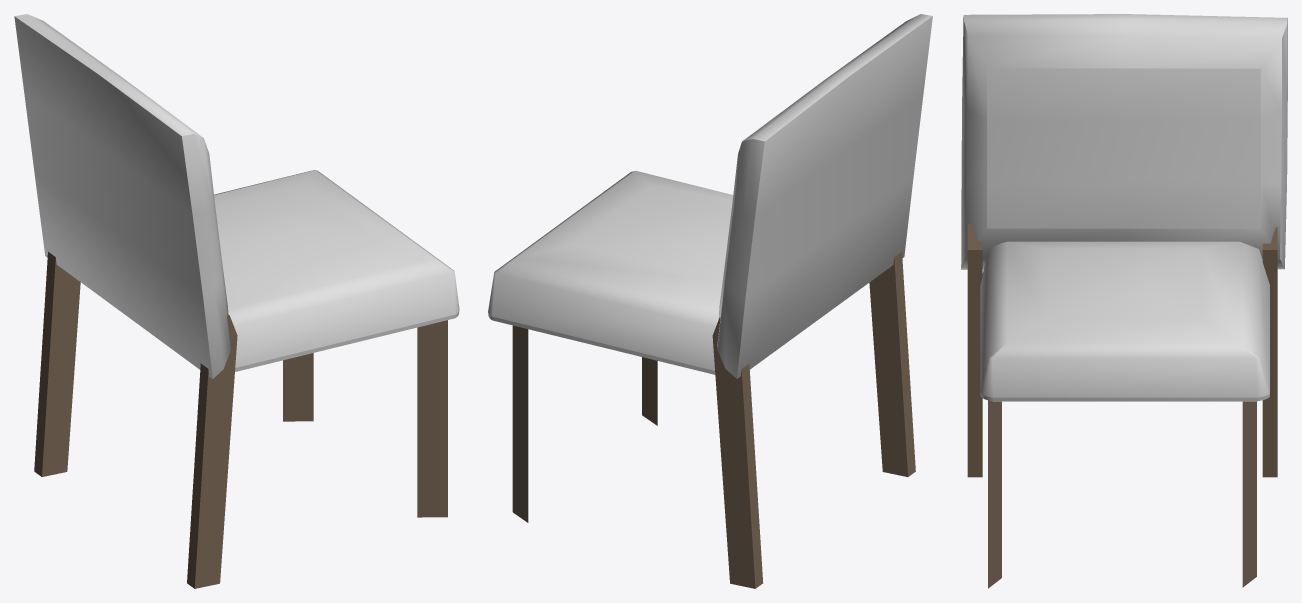
The model's file is chair tagroba.FBX.
3 renders of one model, left to right at view 1: azimuth 30°, elevation 25°; view 2: azimuth 150°, elevation 25°; view 3: azimuth 270°, elevation 25°, orthographic. The views are drawn at different scales.
Parts seen in each view (by area): view 1: ChamferBox113, Rectangle1347, Group716, Line03r91, Line02g91; view 2: ChamferBox113, Rectangle1347, Line02g91, Line03r91, Group716; view 3: ChamferBox113, Rectangle1347, Group716, Line03r91, Line02g91.
Boxes of the visible parts, <box> form: ChamferBox113: <box>14,14,230,378</box>; Rectangle1347: <box>214,170,459,371</box>; Group716: <box>283,320,447,517</box>; Line03r91: <box>187,313,237,588</box>; Line02g91: <box>34,252,80,476</box>; ChamferBox113: <box>717,14,932,378</box>; Rectangle1347: <box>488,170,733,374</box>; Line02g91: <box>712,317,763,588</box>; Line03r91: <box>869,252,915,476</box>; Group716: <box>512,325,657,522</box>; ChamferBox113: <box>961,14,1287,269</box>; Rectangle1347: <box>980,241,1269,401</box>; Group716: <box>988,400,1256,588</box>; Line03r91: <box>967,224,982,477</box>; Line02g91: <box>1262,227,1277,477</box>.
Bounding box in the file's own units: 0.477 × 0.7169 × 0.4778.
